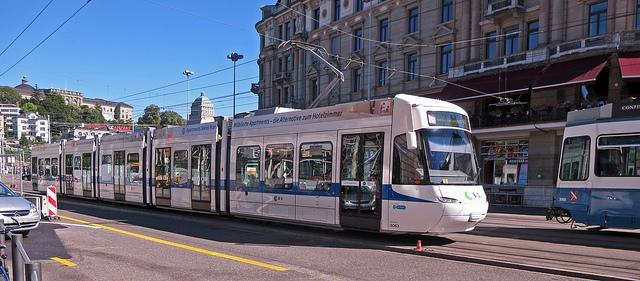Train: (33, 98, 492, 244), (556, 98, 640, 230)
